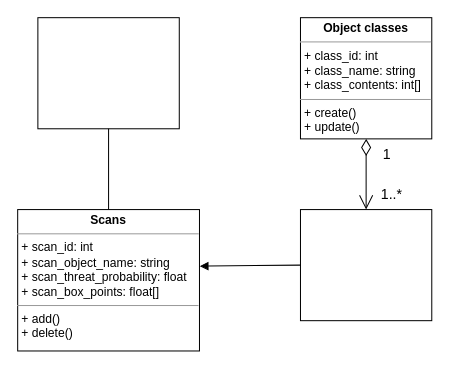
The diagram is 449 pixels wide and 369 high, and some of its shapes have lost their labels. The shapes that lost their labels are listed below. From the top down, each one's box as (x1, y1, x2, y2) in pixels, then its label:
(37, 17, 179, 129): Logs + log_id: int + log_description: string + log_time: timestamp + print()
(299, 209, 432, 321): Objects + object_id: int + object_name: string + add() + delete()
